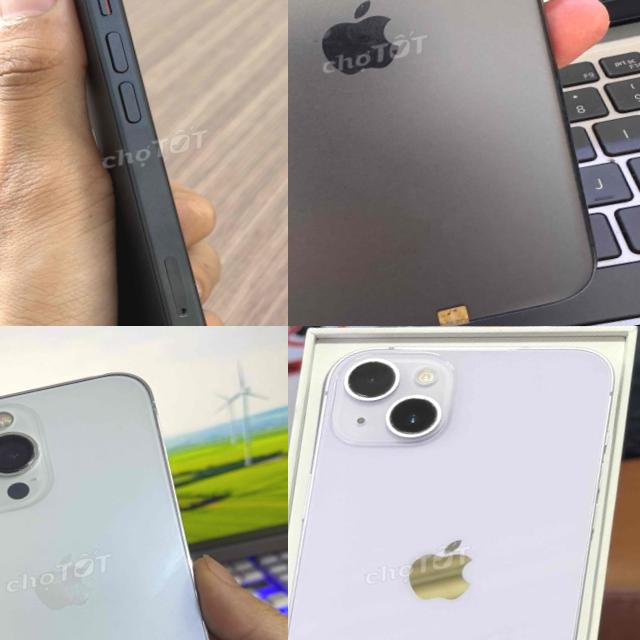gen_11: (288, 0, 636, 326)
gen_12_13: (0, 347, 261, 640)
gen_14: (288, 326, 640, 640)
gen_15: (0, 0, 266, 326)
